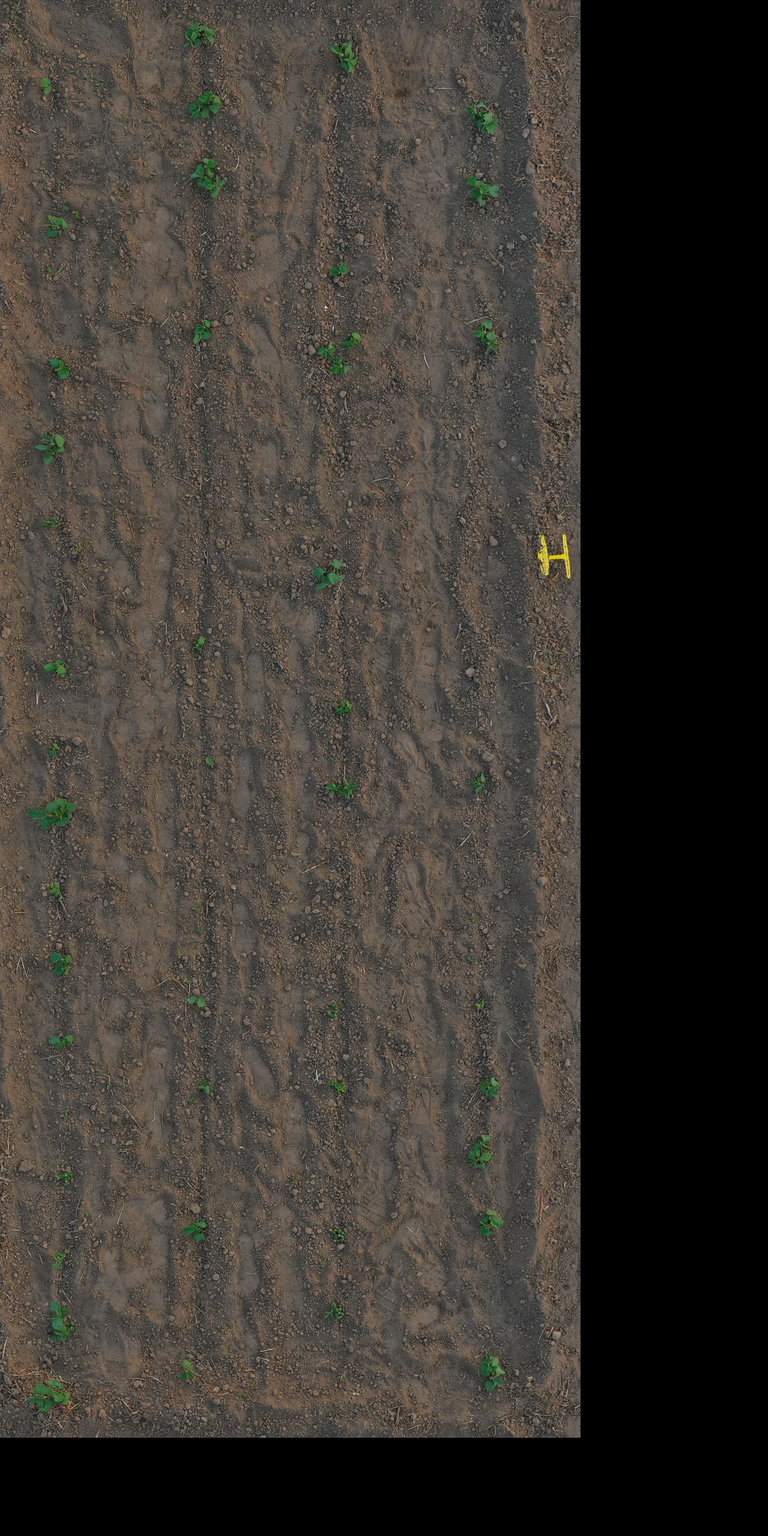s: (28, 802, 60, 831), (26, 1384, 53, 1412), (200, 174, 226, 198), (34, 431, 65, 451), (481, 1366, 504, 1392), (49, 1301, 68, 1330), (193, 157, 218, 179), (45, 215, 68, 238), (476, 111, 499, 134), (183, 1219, 206, 1242), (467, 176, 491, 198), (476, 185, 500, 207), (468, 1149, 493, 1170), (340, 44, 358, 73), (474, 319, 493, 346), (479, 1209, 504, 1229), (49, 358, 70, 380), (188, 98, 209, 119), (42, 445, 64, 465), (50, 952, 72, 971), (312, 567, 330, 590), (327, 559, 342, 586), (480, 1077, 500, 1097), (480, 1352, 498, 1374), (47, 1379, 64, 1402), (49, 810, 72, 826), (342, 777, 358, 800), (48, 1034, 74, 1048), (466, 101, 485, 120), (316, 342, 336, 360), (330, 355, 347, 376), (188, 22, 207, 40), (183, 30, 202, 48), (473, 1134, 492, 1152), (341, 332, 362, 348), (179, 1359, 195, 1380), (50, 1326, 71, 1342), (53, 797, 75, 812), (190, 168, 207, 187), (486, 332, 502, 352), (472, 772, 486, 793), (490, 1357, 506, 1375), (329, 262, 348, 277), (198, 90, 218, 104), (43, 662, 66, 674), (479, 1221, 496, 1237), (48, 881, 63, 899), (330, 45, 344, 64), (200, 28, 215, 45), (193, 331, 211, 345), (194, 320, 212, 334), (325, 782, 346, 794), (52, 1252, 66, 1270), (324, 1302, 338, 1319), (209, 96, 222, 114), (54, 660, 67, 678), (187, 996, 206, 1008), (191, 635, 205, 651), (40, 78, 52, 95), (53, 964, 70, 976), (47, 1387, 59, 1404), (197, 1080, 210, 1094), (48, 742, 60, 756), (342, 698, 353, 712), (334, 706, 346, 716), (474, 1000, 485, 1010), (205, 756, 214, 768), (327, 1080, 339, 1089), (50, 516, 60, 526), (63, 1171, 73, 1181), (341, 365, 350, 376), (326, 1010, 337, 1018), (334, 1307, 342, 1318), (38, 519, 50, 526), (337, 1085, 347, 1093), (49, 520, 58, 528), (335, 1312, 344, 1320), (334, 1231, 344, 1238), (332, 1003, 338, 1014), (331, 1228, 342, 1234), (64, 1108, 69, 1120), (54, 1174, 64, 1180), (63, 1177, 69, 1186), (340, 1078, 346, 1087), (340, 1235, 344, 1241)
